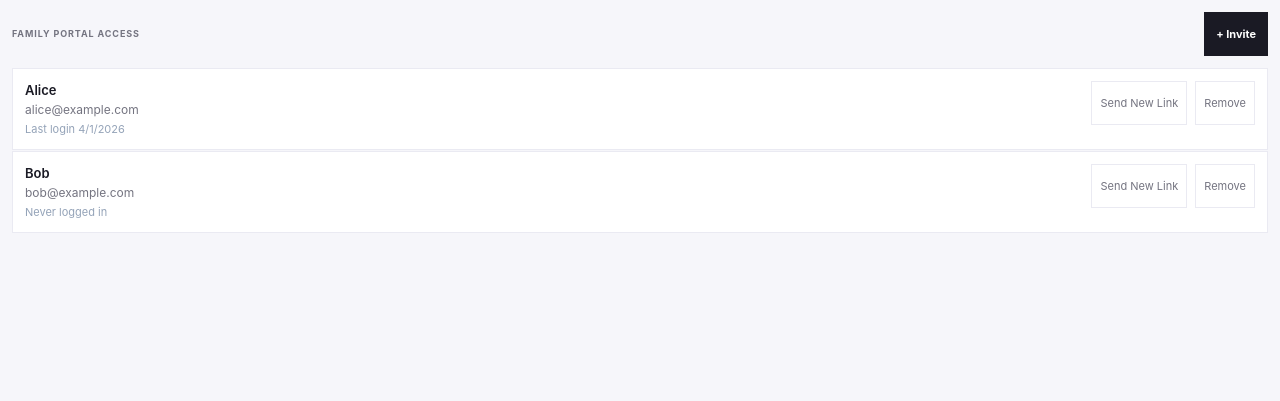
Test: FamilyPortalTab › shows invite URL and copy button after successful generate
The width and height of the screenshot is (1280, 401).
Click the button "+ Invite" at (1236, 34), box [1204,12,1268,56]
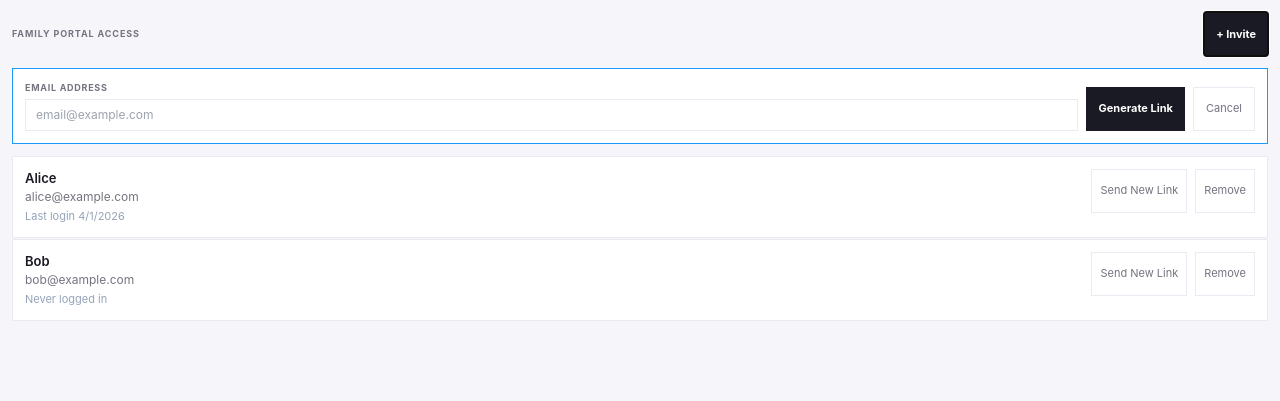
Type "new@example.com" into the field with placeholder "email@example.com" at (552, 114), box [25,98,1078,130]
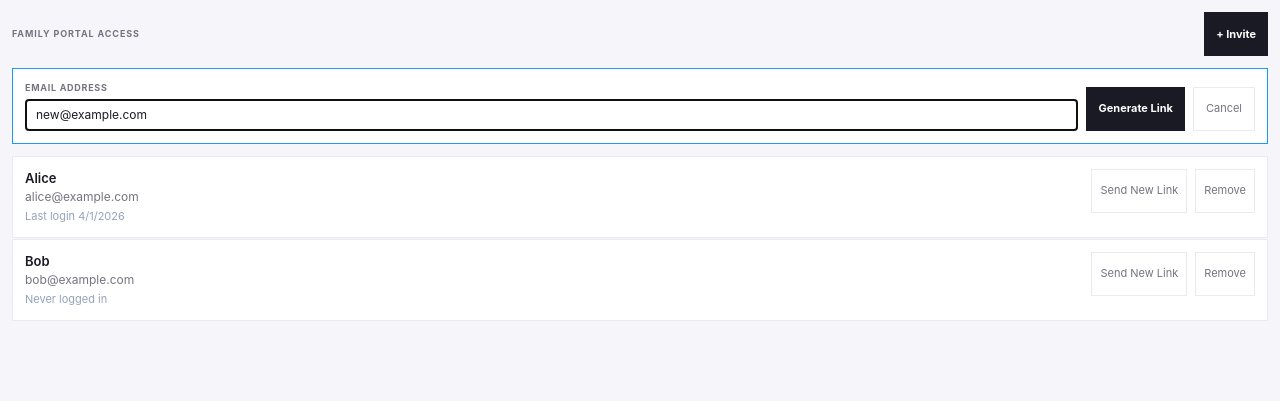
Click the button "Generate Link" at (1136, 108), box [1086,86,1185,130]
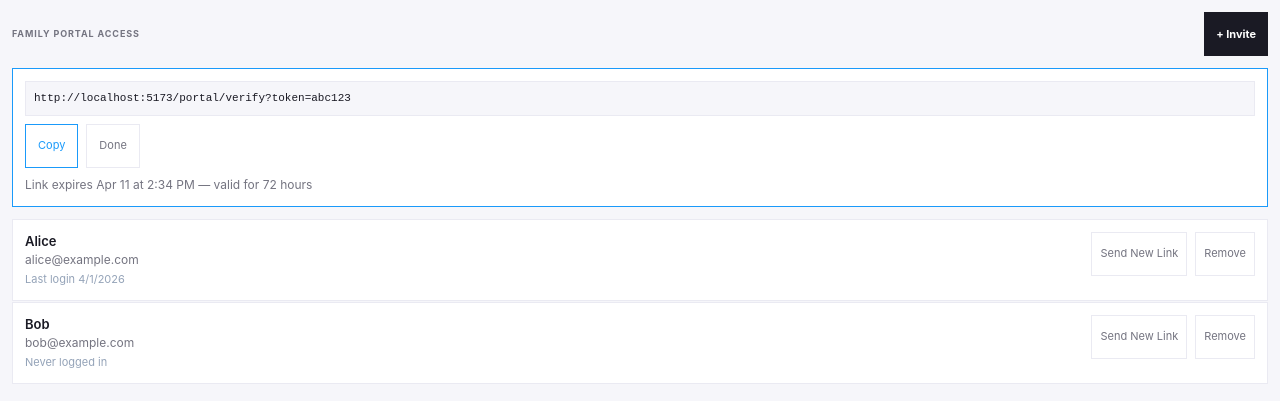
expect the text "http://localhost:5173/portal/verify?token=abc123" is shown: met, box [25,81,1255,116]
expect the button "Copy" is shown: met, box [25,124,78,168]
